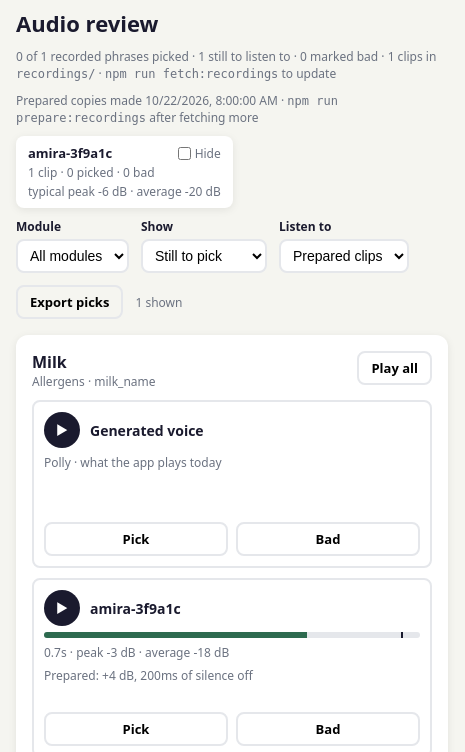
ReviewPage › stops a clip when it is clicked again
This screenshot has width=465, height=752.
Expected: the text "Milk" is shown, [32,351,67,373]
Click the button named "Play amira-3f9a1c": (62, 608) [44,590,80,626]
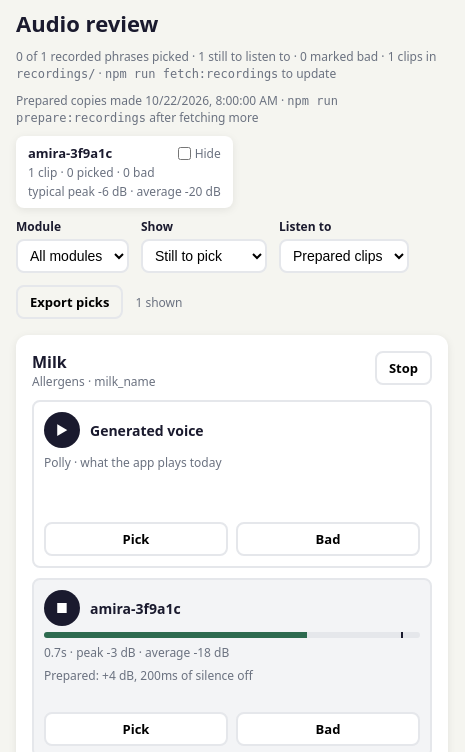
Click the button named "Stop amira-3f9a1c": (62, 608) [44,590,80,626]
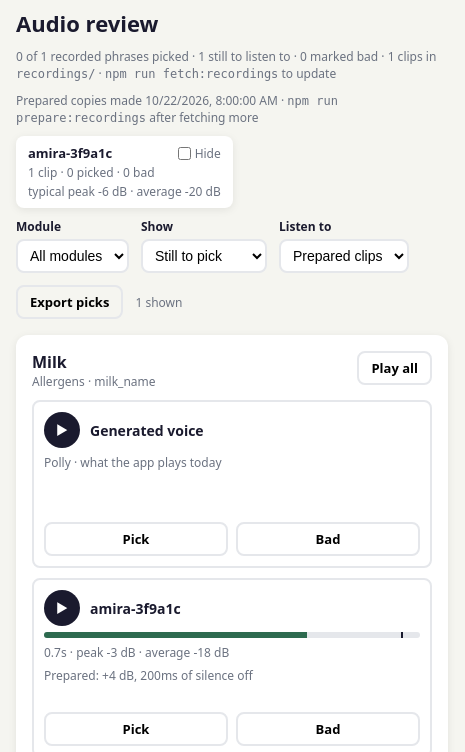
Expected: the button named "Play amira-3f9a1c" is shown, [44,590,80,626]
